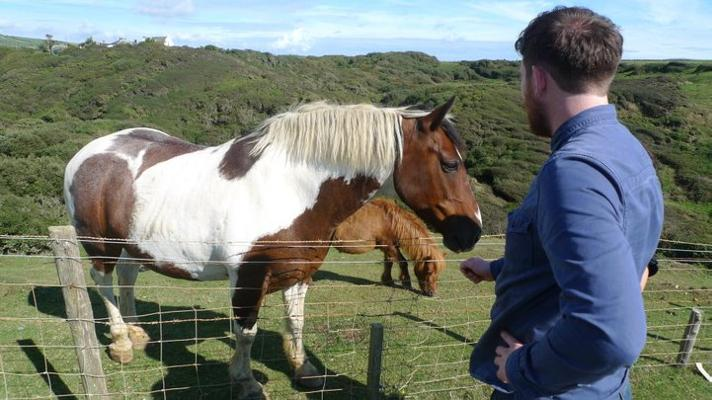person: (462, 8, 667, 400)
